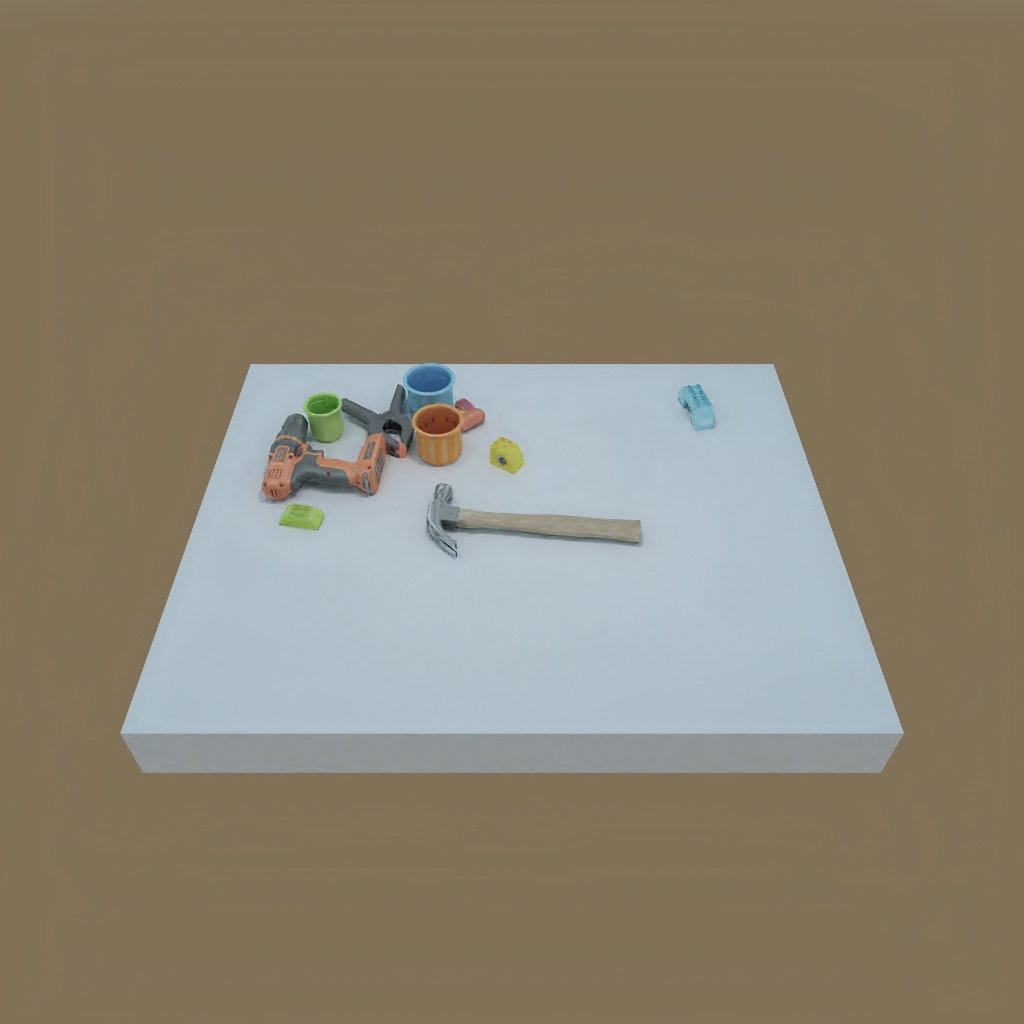hammer: (425, 483, 637, 555)
power_drill: (260, 419, 388, 496)
